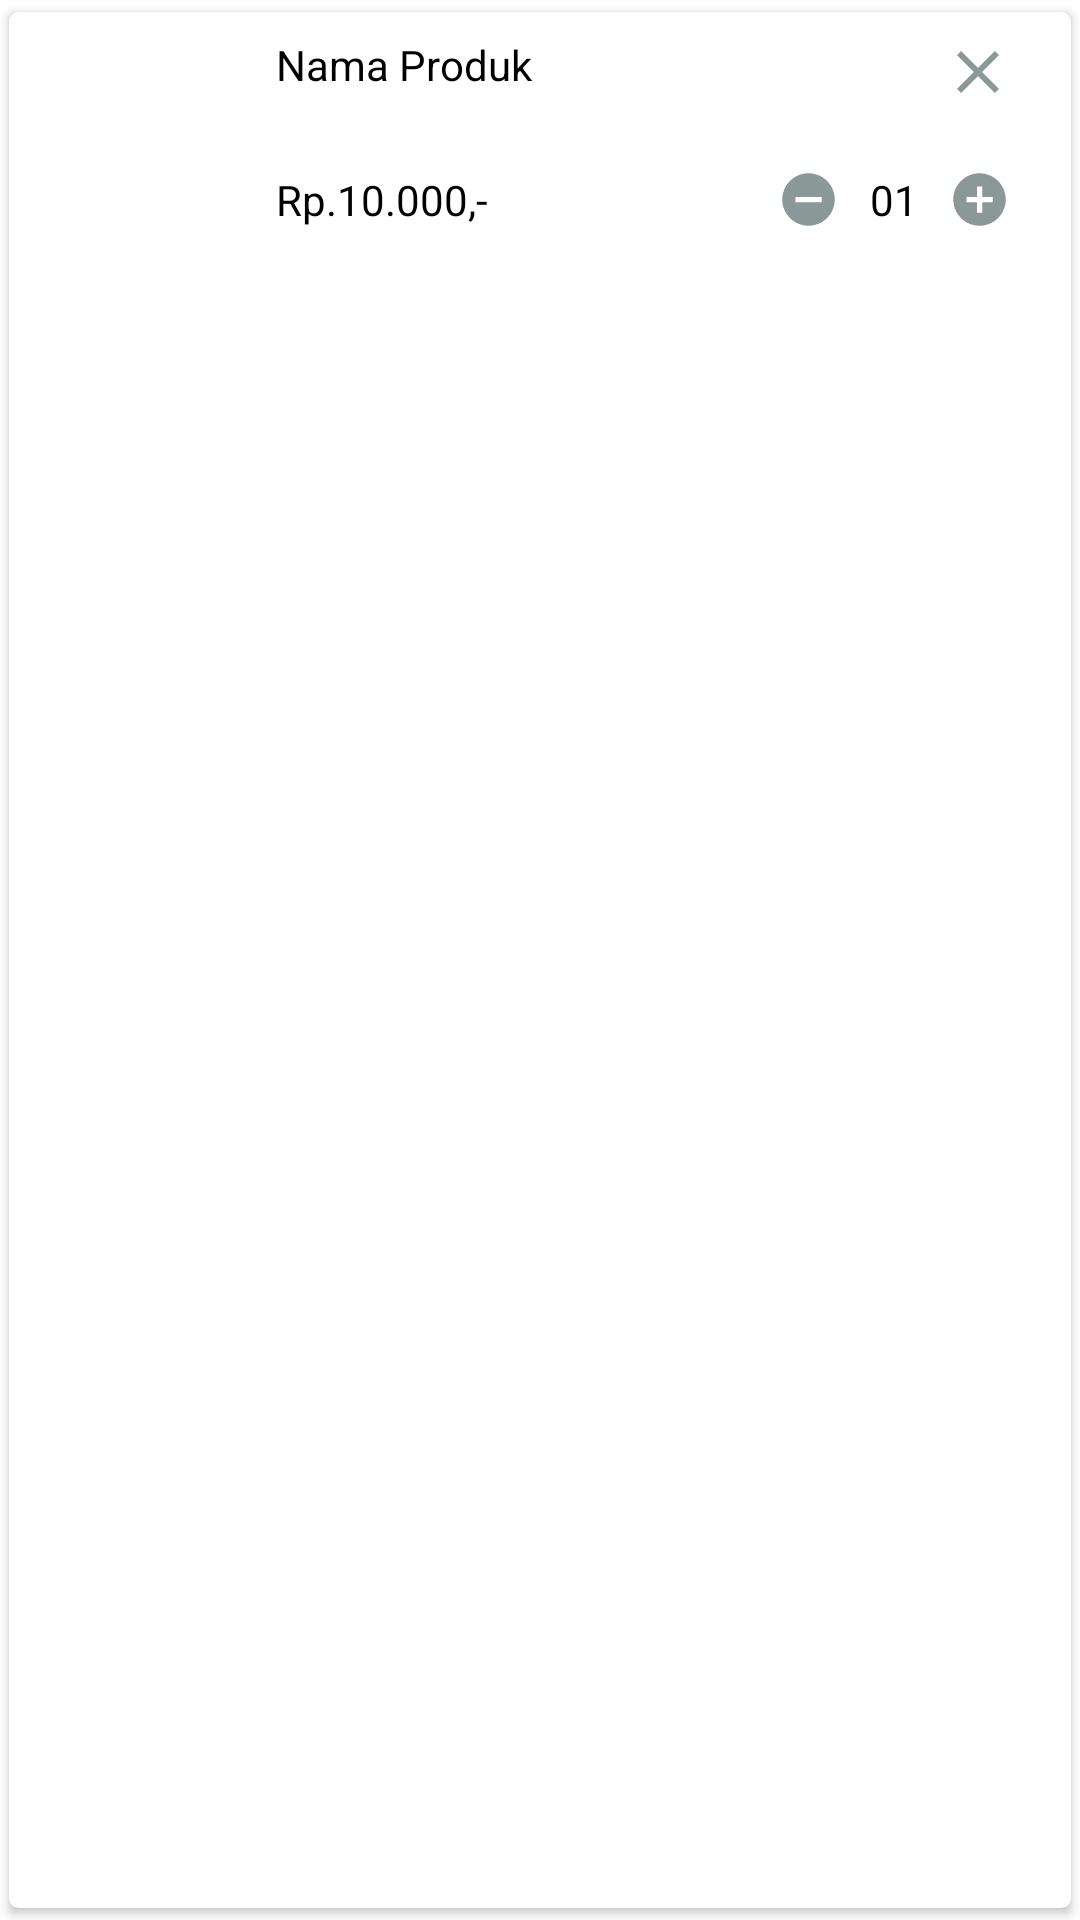

Where icons sit on this 1080px x 1920px app screen, as (x1, y1, x2, y2):
add: (953, 173, 1006, 226)
close: (957, 51, 999, 93)
remove: (782, 173, 835, 226)
